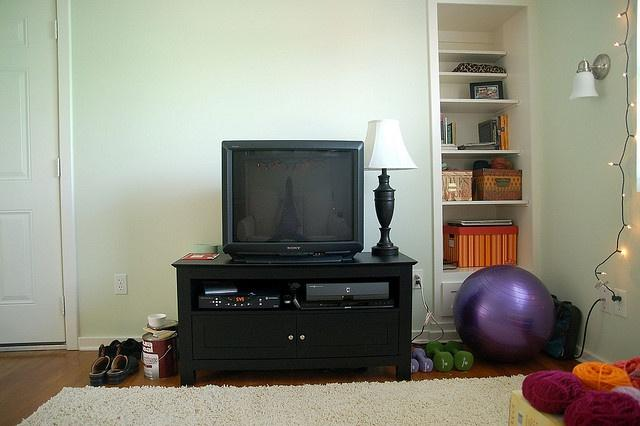AIO PC-Monitor-TV: (220, 140, 365, 263)
Rak: (432, 0, 536, 273)
